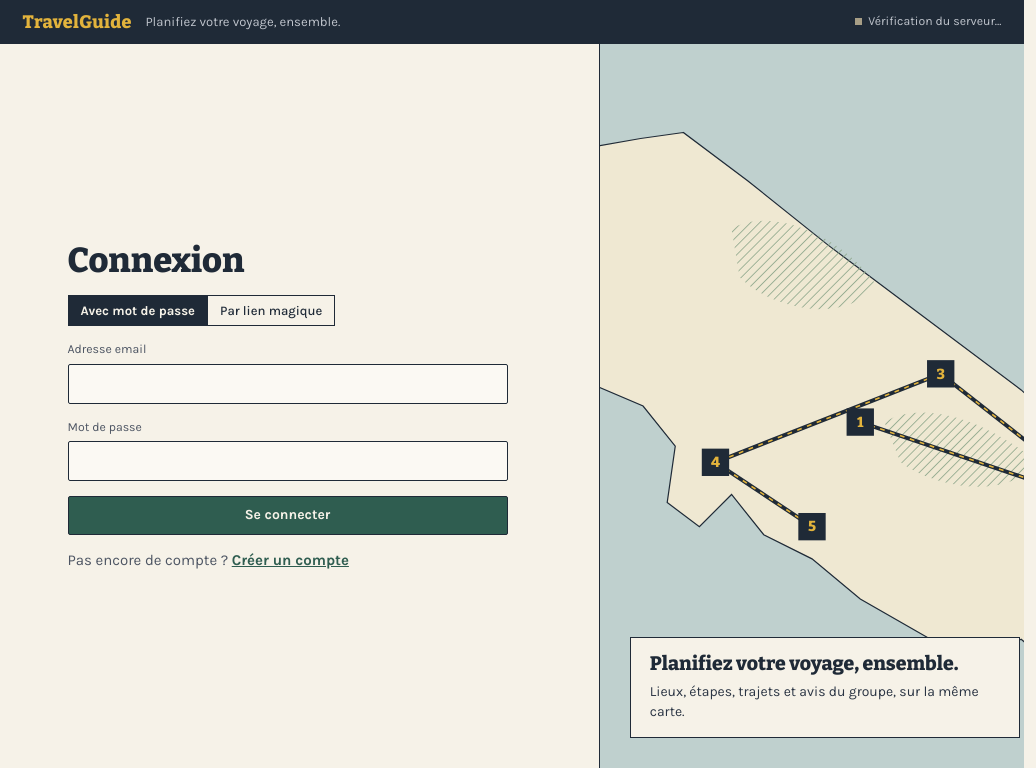
Test: authentification › affiche une erreur générique si les identifiants sont faux
The width and height of the screenshot is (1036, 768).
Type "ana@example.com" into the field labelled "Adresse email" at (288, 384), box [68,364,508,404]
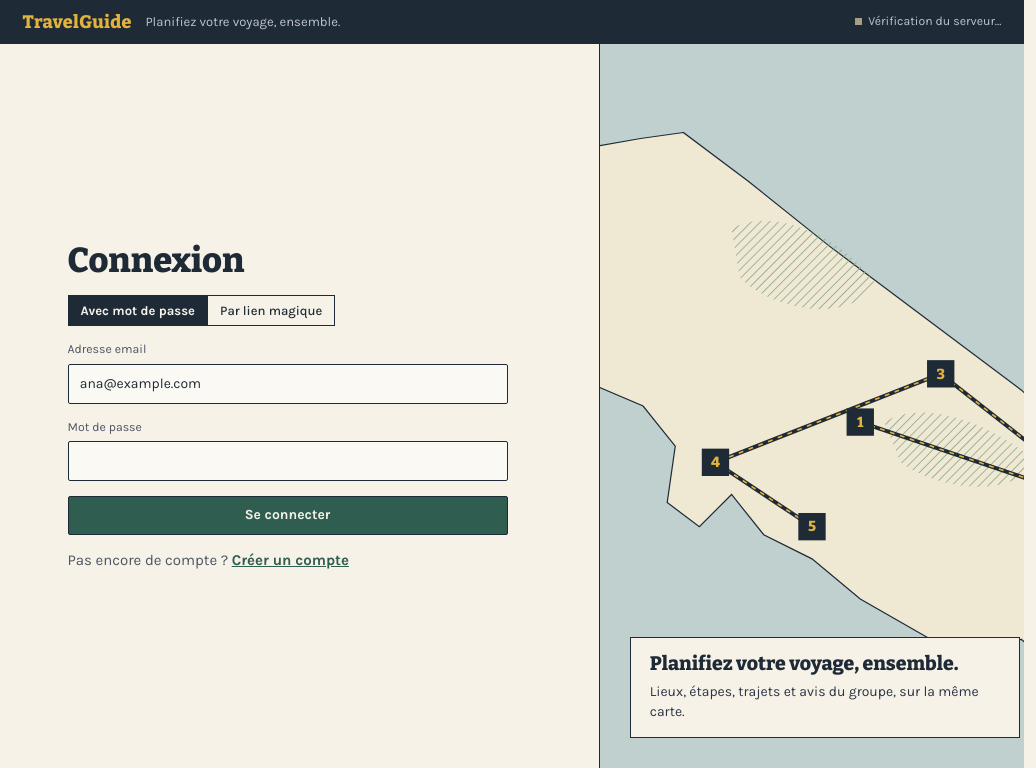
Type "mauvais" into the password field labelled "Mot de passe" at (288, 461), box [68,441,508,482]
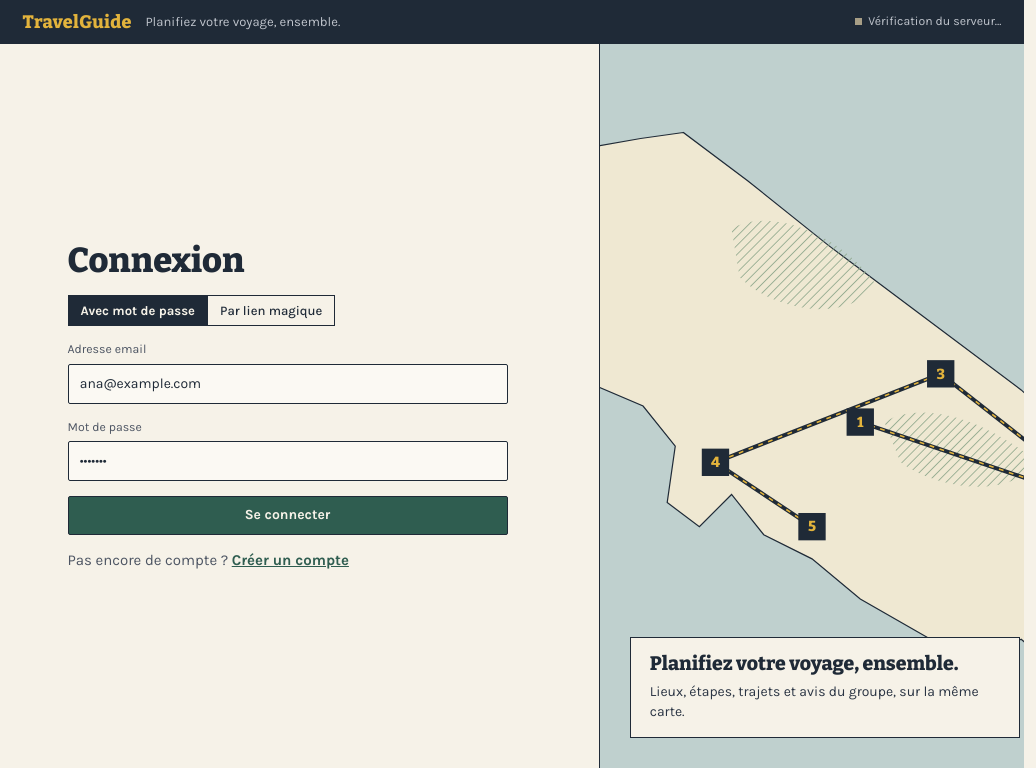
Click the button "Se connecter" at (288, 516), box [68,496,508,535]
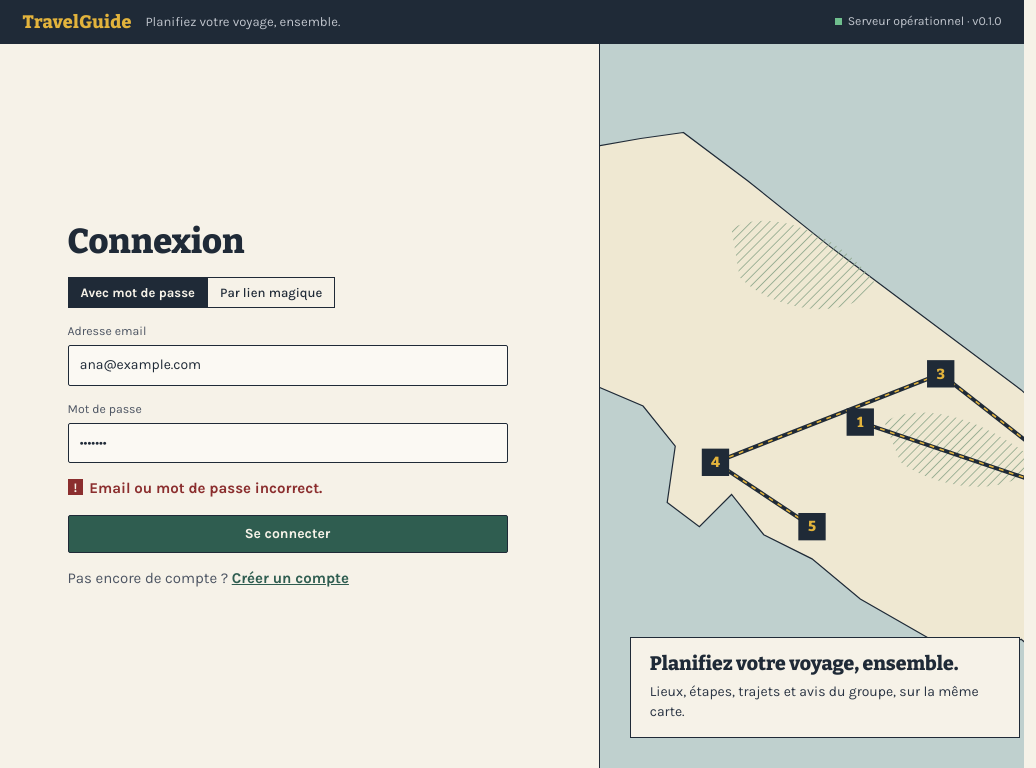
Now the message reads "Email ou mot de passe incorrect.", box [89,479,322,497]
